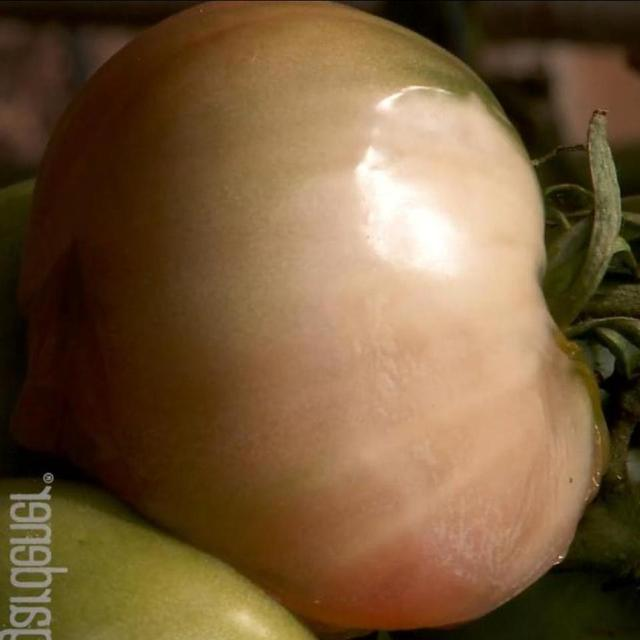Sunscald Fruit: (209, 42, 406, 408)
